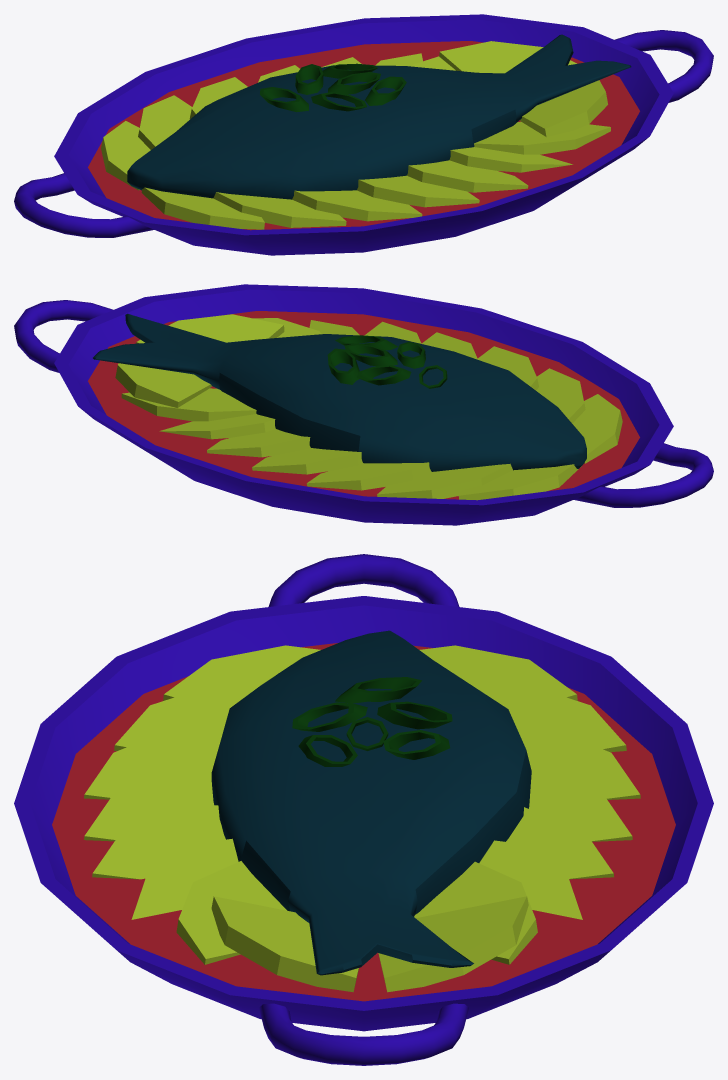
Rendered from Spicy Steamed Carp.fbx.
3 renders of one model, top to bottom at view 1: azimuth 30°, elevation 25°; view 2: azimuth 150°, elevation 25°; view 3: azimuth 270°, elevation 25°, orthographic. The views are drawn at different scales.
Visible parts, largest first — view 1: Spicy Steamed Carp; view 2: Spicy Steamed Carp; view 3: Spicy Steamed Carp.
Part boxes in pixels (x1,y1,x2,y2): Spicy Steamed Carp: (14,14,713,255); Spicy Steamed Carp: (14,284,713,525); Spicy Steamed Carp: (14,554,713,1065).
Bounding box in the file's own units: 58.92 × 35.21 × 10.02.
